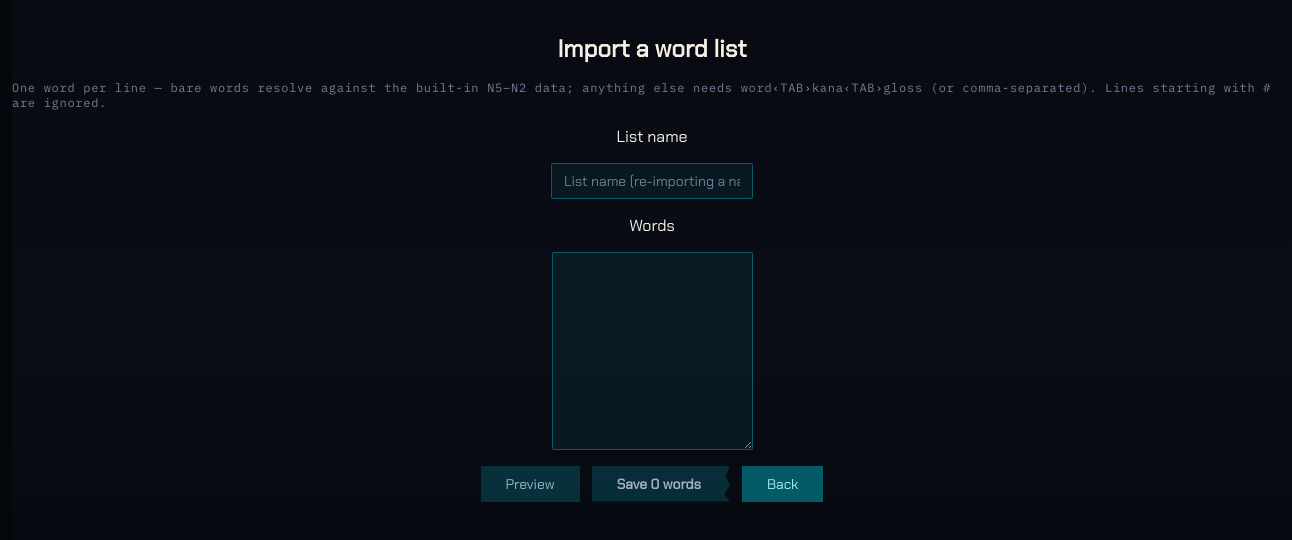
it: ImportScreen › invalidates the preview when the text is edited afterward
Type "x" into the field with test id "import-name" at (652, 180), box [551, 162, 753, 198]
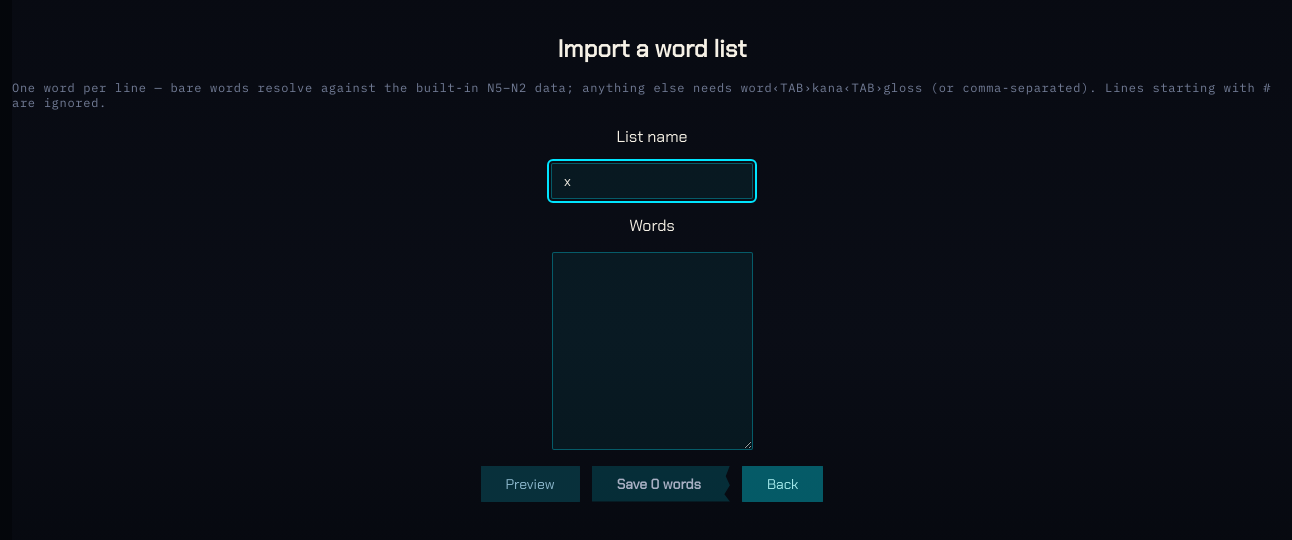
Type "犬" into the text box with test id "import-text" at (652, 350), box [552, 252, 752, 450]
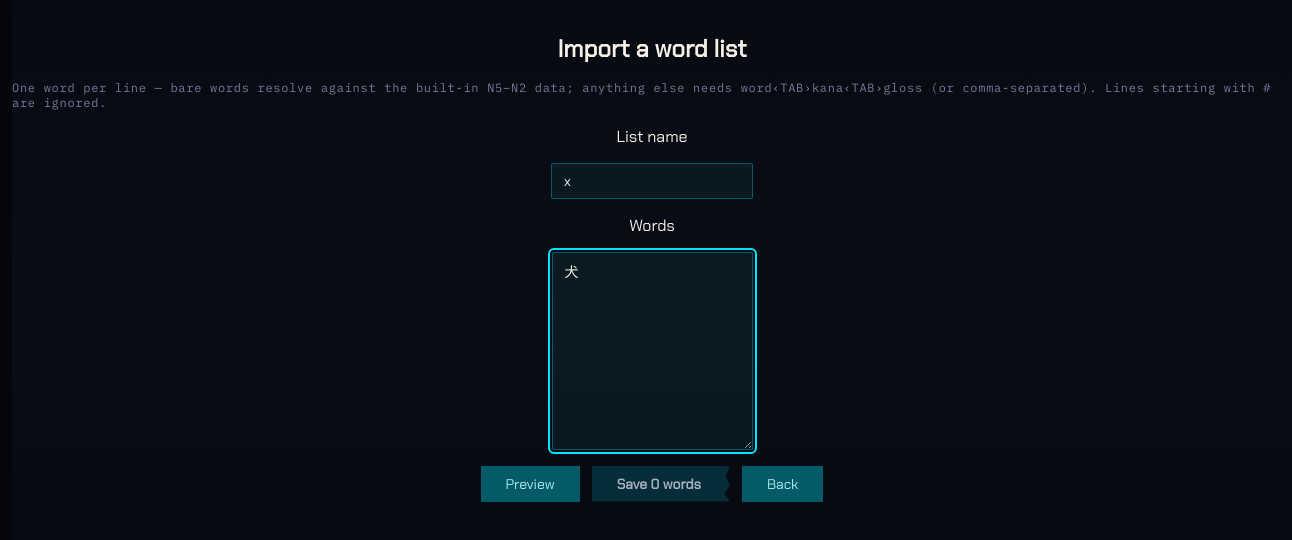
Click the button with test id "preview-button" at (530, 484), box [480, 466, 580, 502]
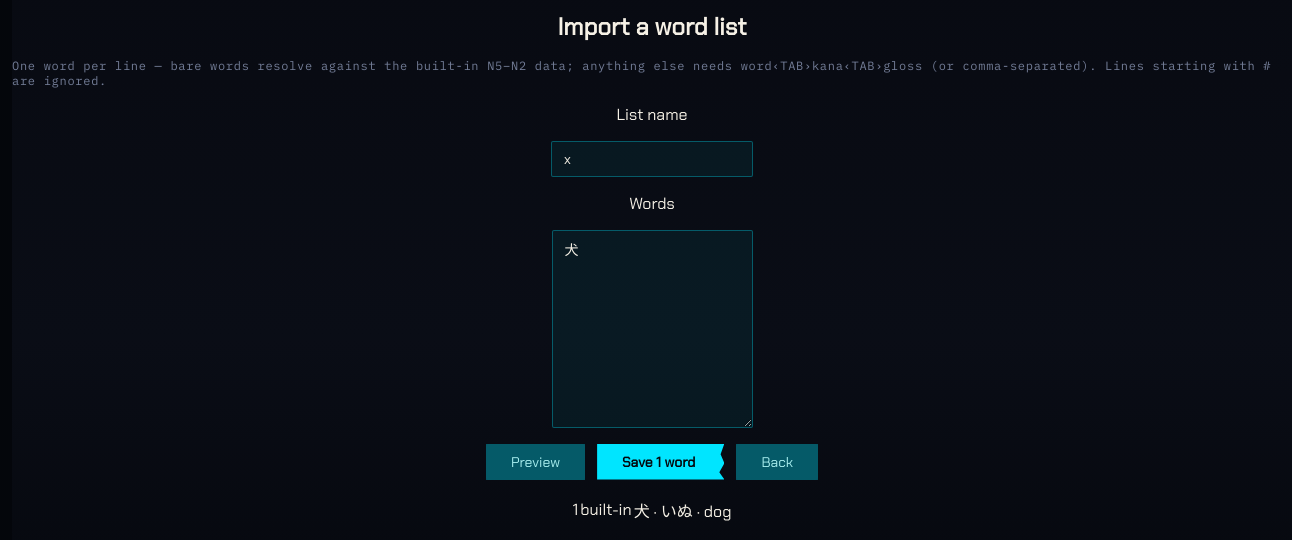
Now the button with test id "save-button" is enabled, box [597, 444, 724, 480]
Now the table with test id "preview-table" is shown, box [570, 496, 734, 524]
Type "猫" into the text box with test id "import-text" at (652, 328), box [552, 230, 752, 428]
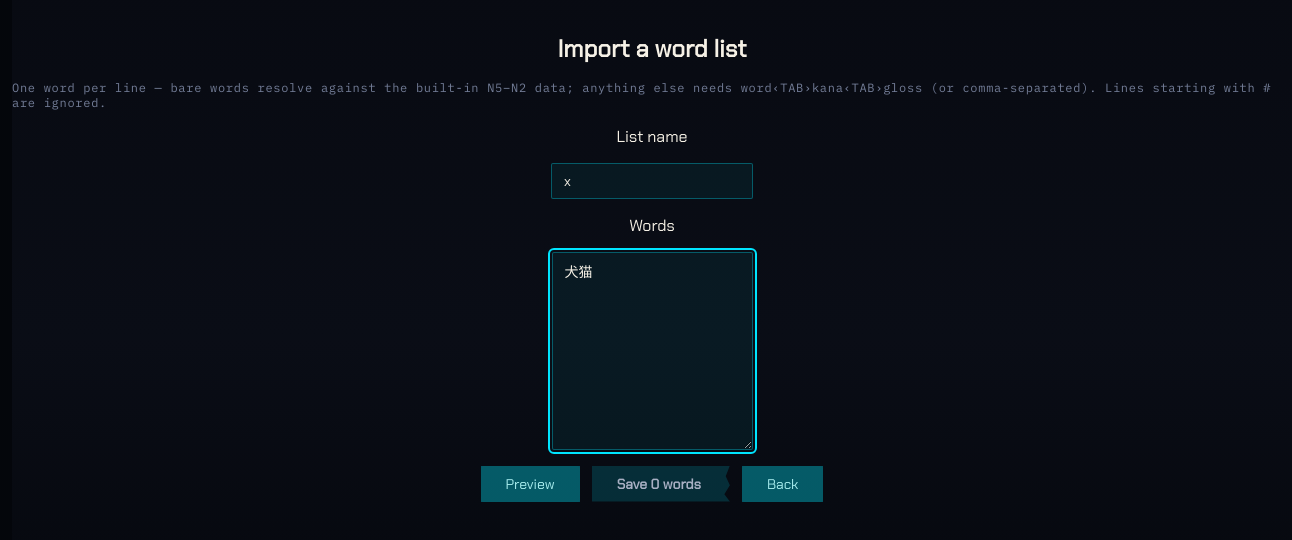
Now the table with test id "preview-table" is gone
Now the button with test id "save-button" is disabled, box [592, 466, 730, 502]
